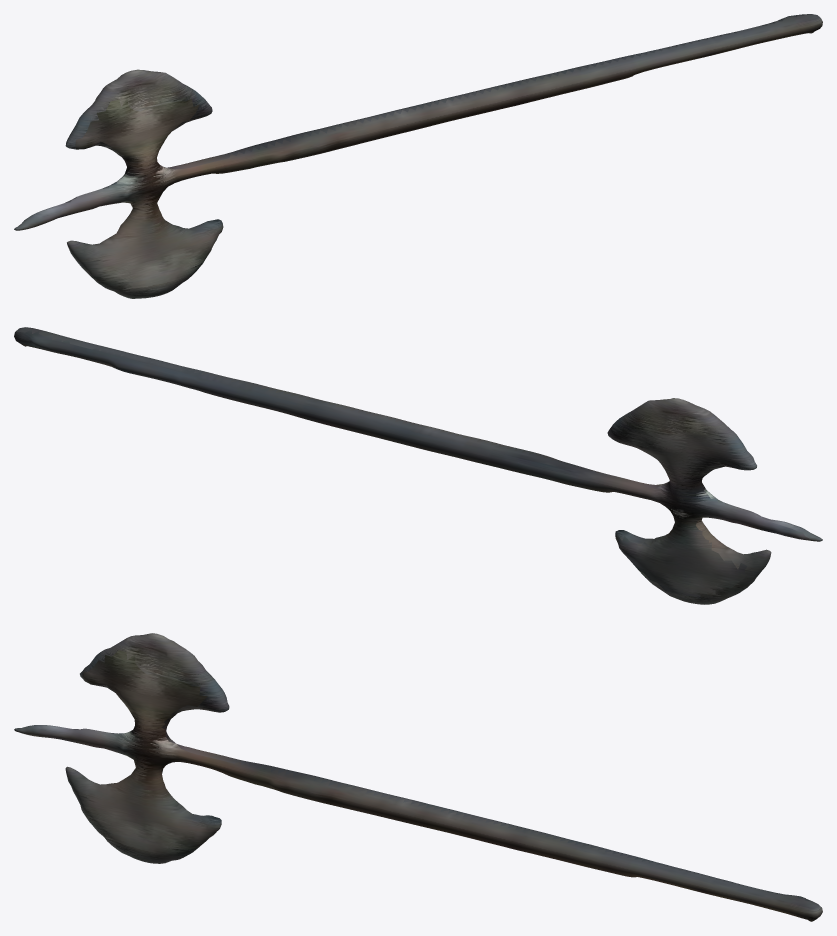
Rendered from kfl-2182.glb.
3 renders of one model, top to bottom at view 1: azimuth 30°, elevation 25°; view 2: azimuth 150°, elevation 25°; view 3: azimuth 330°, elevation 25°, orthographic.
Visible parts, largest first — view 1: geometry_0; view 2: geometry_0; view 3: geometry_0.
Part boxes in pixels (left/top/right/bottom): geometry_0: left=14, top=14, right=822, bottom=298; geometry_0: left=14, top=327, right=822, bottom=604; geometry_0: left=14, top=633, right=822, bottom=921.
Size of the model in its own units: 0.9819 by 0.2492 by 0.0594.
1 material, 1 textured.
